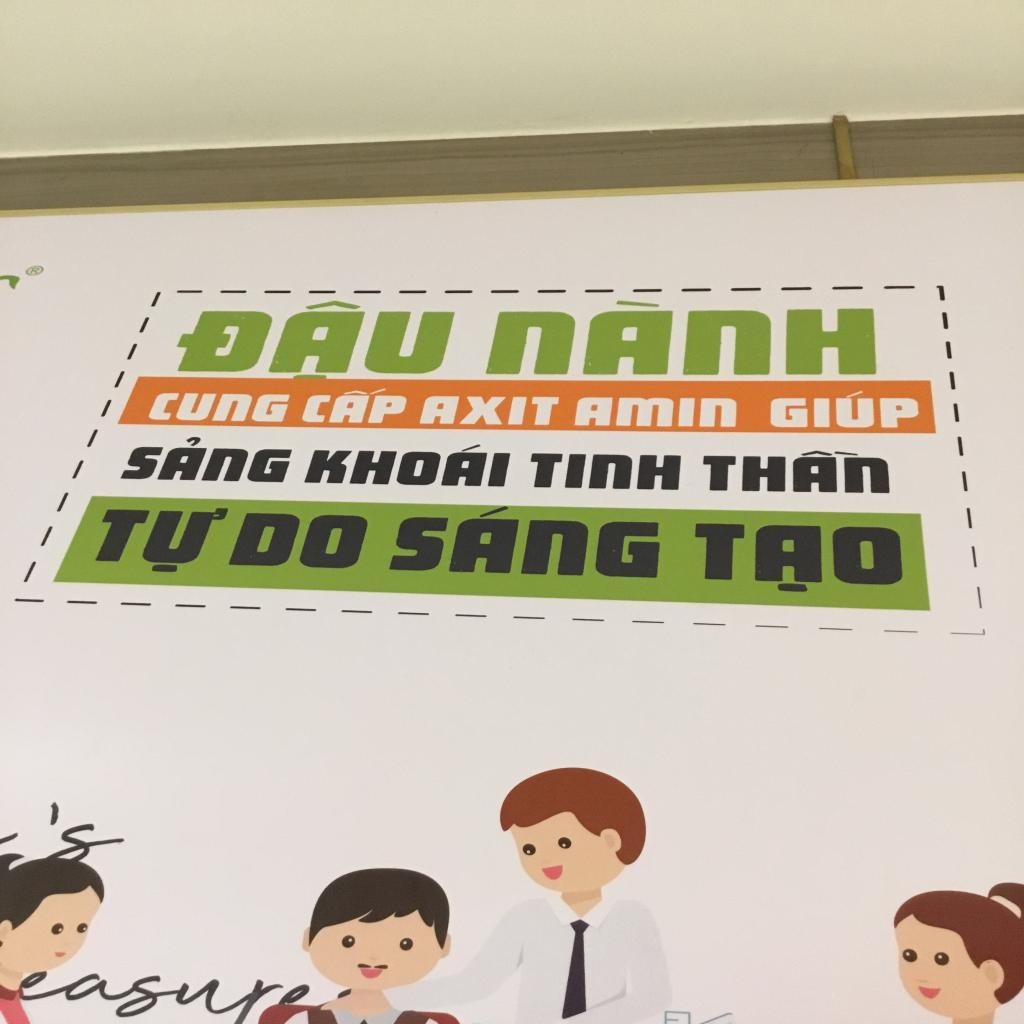text: (474, 296, 885, 384), (164, 291, 465, 381), (372, 502, 660, 591), (683, 508, 923, 608), (76, 498, 238, 586), (218, 504, 382, 588), (292, 439, 517, 499), (112, 429, 304, 494), (696, 444, 894, 499), (519, 443, 692, 502), (566, 391, 750, 433), (414, 388, 566, 434), (766, 390, 932, 432), (139, 386, 301, 426), (301, 384, 418, 426), (40, 818, 128, 873)
